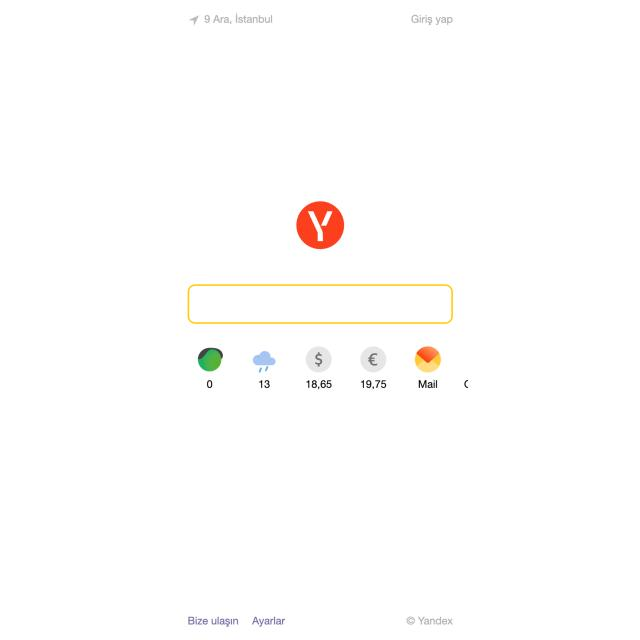input: (186, 283, 454, 325)
logo: (294, 198, 345, 250)
